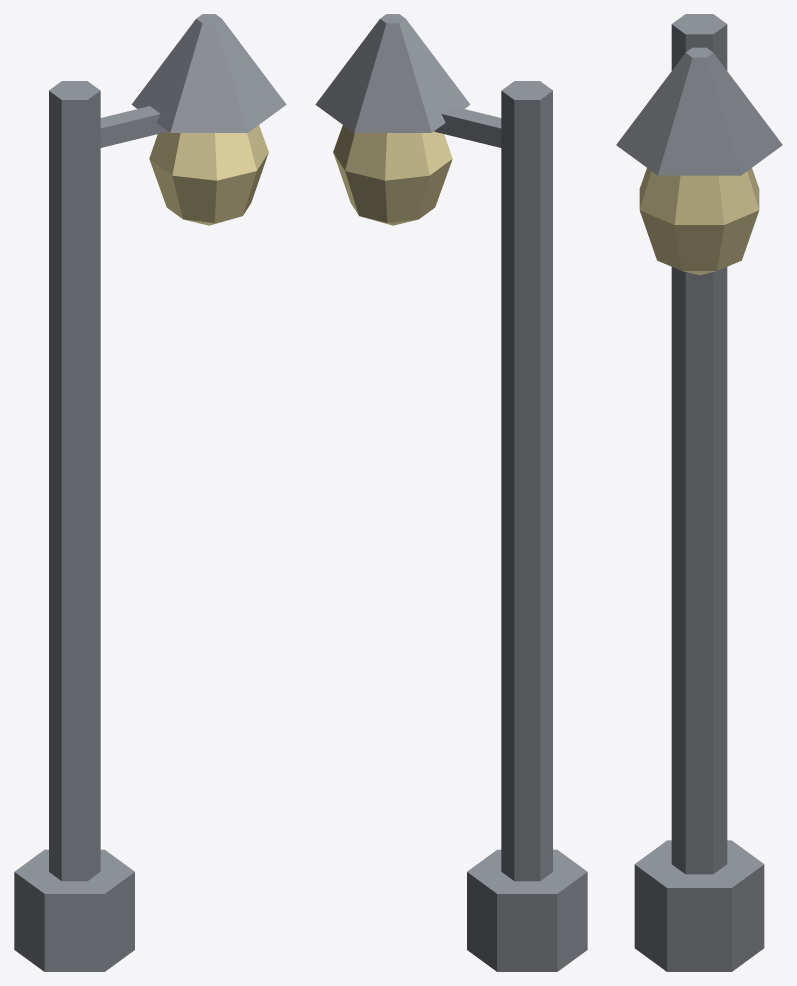
Rendered from lantern_post.glb.
3 renders of one model, left to right at view 1: azimuth 30°, elevation 25°; view 2: azimuth 150°, elevation 25°; view 3: azimuth 270°, elevation 25°, orthographic. The views are drawn at different scales.
Visible parts, largest first — view 1: Player; view 2: Player; view 3: Player.
Boxes of the visible parts, x1=… form: Player: x1=14, y1=14, x2=286, y2=971; Player: x1=315, y1=14, x2=587, y2=971; Player: x1=616, y1=14, x2=782, y2=971.
Size of the model in its own units: 0.6371 by 2.3 by 0.36.
